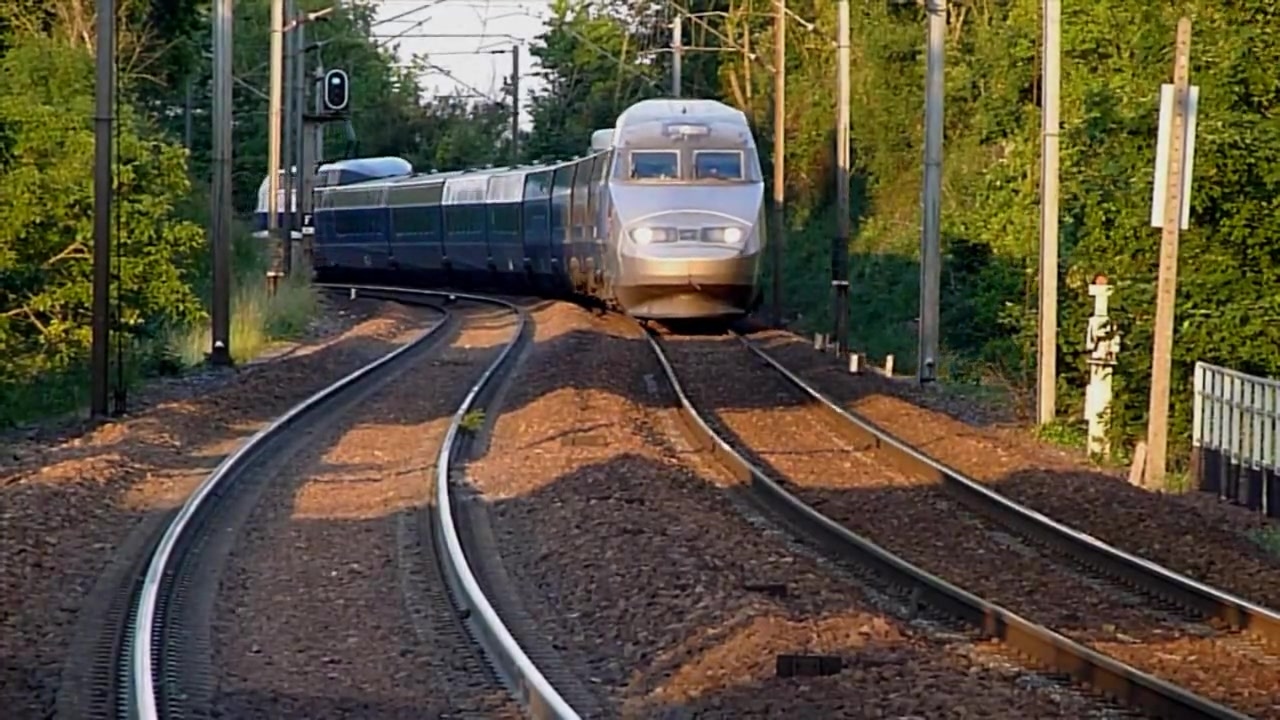train: (259, 96, 775, 326)
